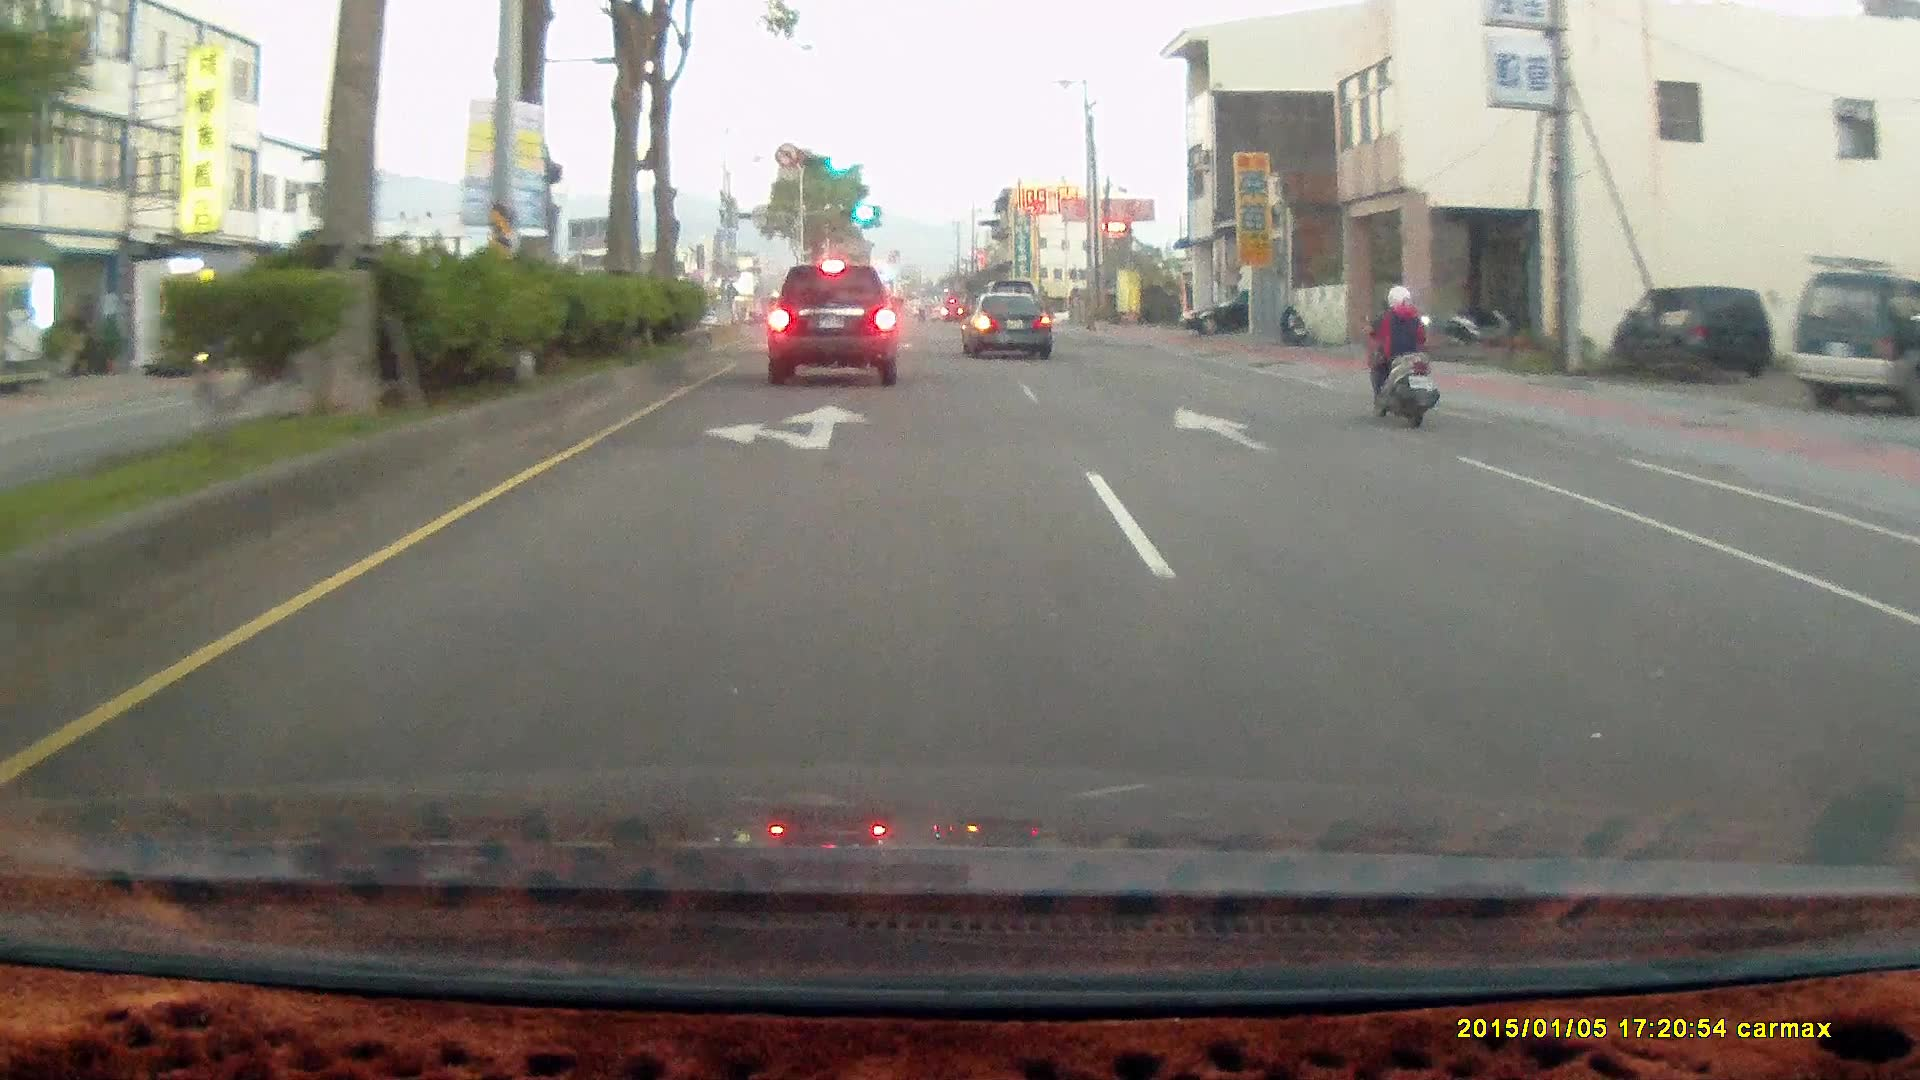rider: (1346, 269, 1453, 440), (1360, 282, 1439, 427)
vehicle: (1793, 272, 1920, 411), (1792, 272, 1919, 410), (768, 263, 903, 385), (770, 258, 902, 380), (1609, 281, 1772, 378), (1610, 282, 1773, 379), (959, 291, 1056, 363), (1180, 287, 1302, 336), (960, 292, 1050, 358), (1180, 289, 1253, 339)
